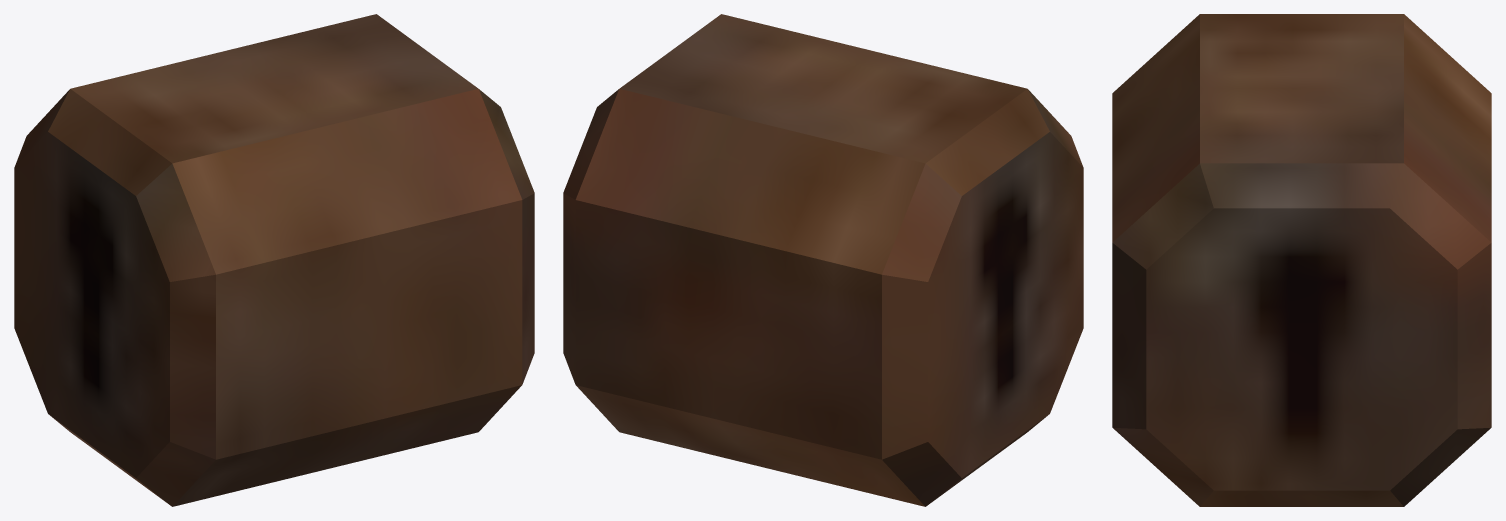
Rendered from LockBox.fbx.
3 renders of one model, left to right at view 1: azimuth 30°, elevation 25°; view 2: azimuth 150°, elevation 25°; view 3: azimuth 270°, elevation 25°, orthographic.
Parts seen in each view (by area): view 1: Plane.002; view 2: Plane.002; view 3: Plane.002.
Part boxes in pixels (x1,y1,x2,y2): Plane.002: [14, 14, 534, 506]; Plane.002: [563, 14, 1083, 506]; Plane.002: [1112, 14, 1491, 506].
Size of the model in its own units: 472 by 425 by 425.
Materials: 1 (1 with a texture image).
